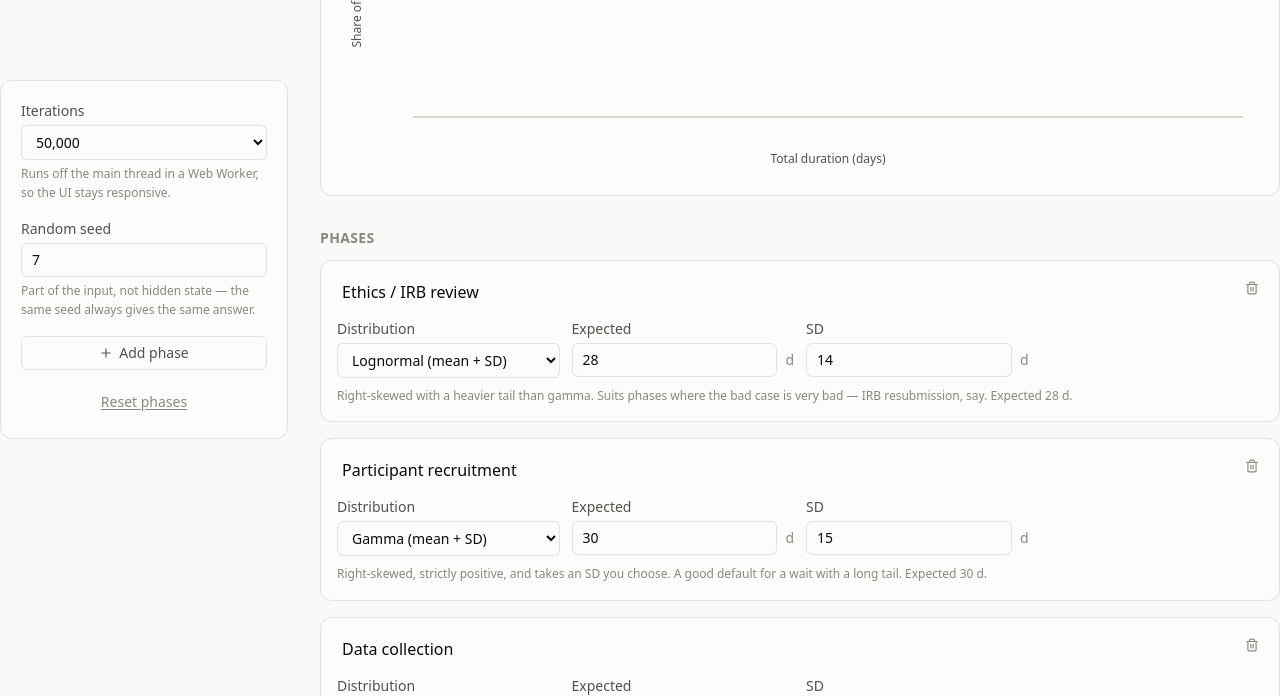
Test: TimelinePage › shows the Poisson variance constraint when that distribution is chosen
This screenshot has width=1280, height=696.
(page scrolled)
Step 1. Select "Poisson (variance = mean)" in the 1st dropdown labelled "Distribution" → (448, 360), box [337,343,560,378]
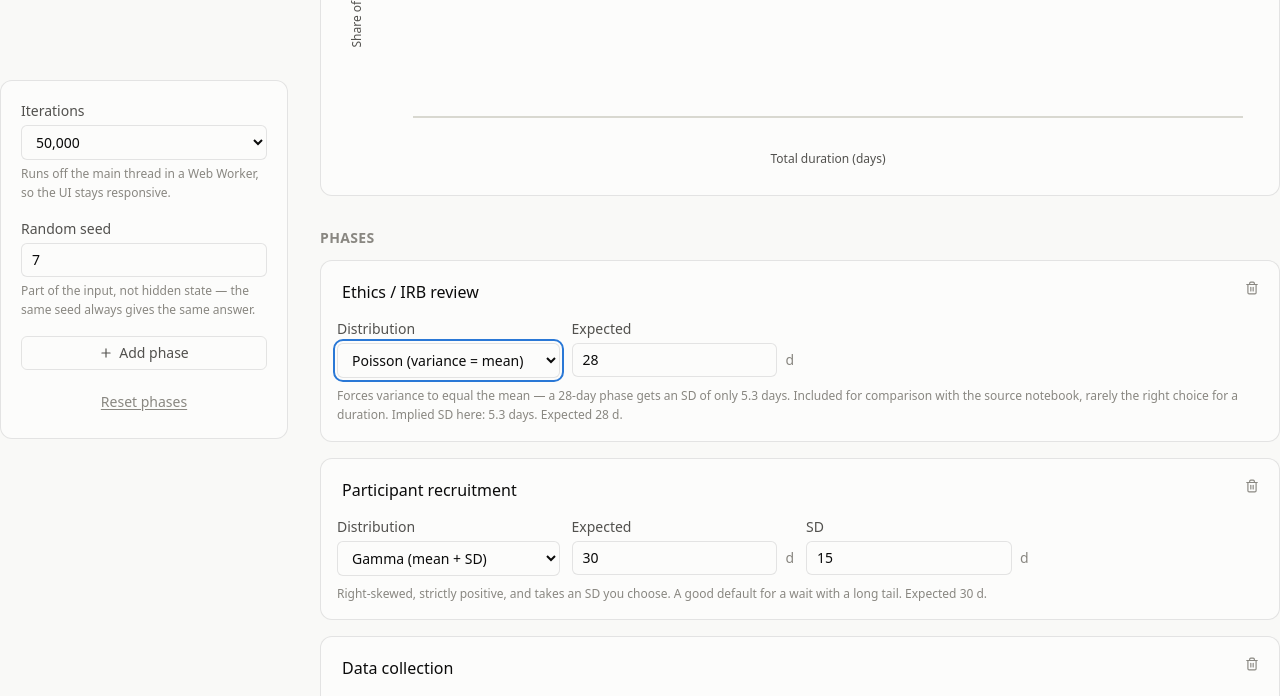
Result: the text "Forces variance to equal the mean" shows "Implied SD here: 5.3 days" at [337,386,1263,425]
